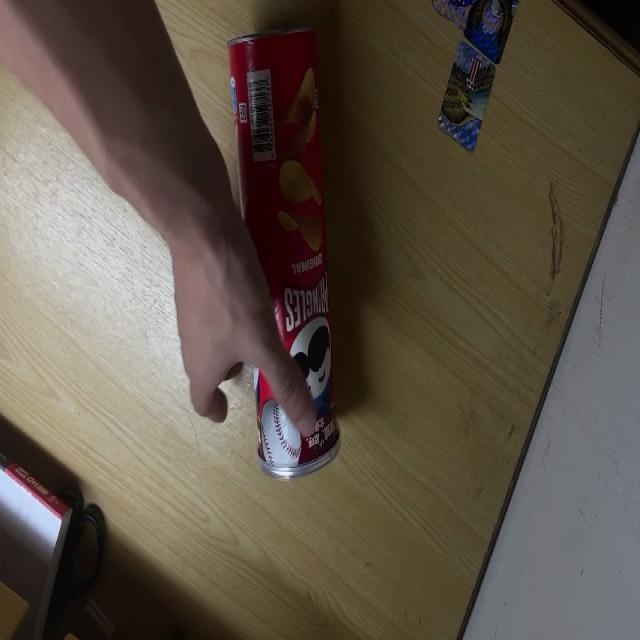Pringles: (225, 29, 342, 484)
